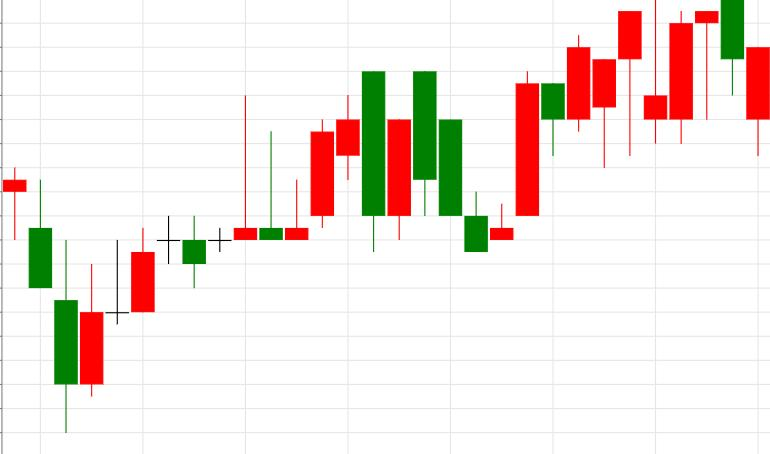bearish_engulfing_fall: (81, 72, 384, 397)
hanging_man_fall: (491, 12, 641, 241)
